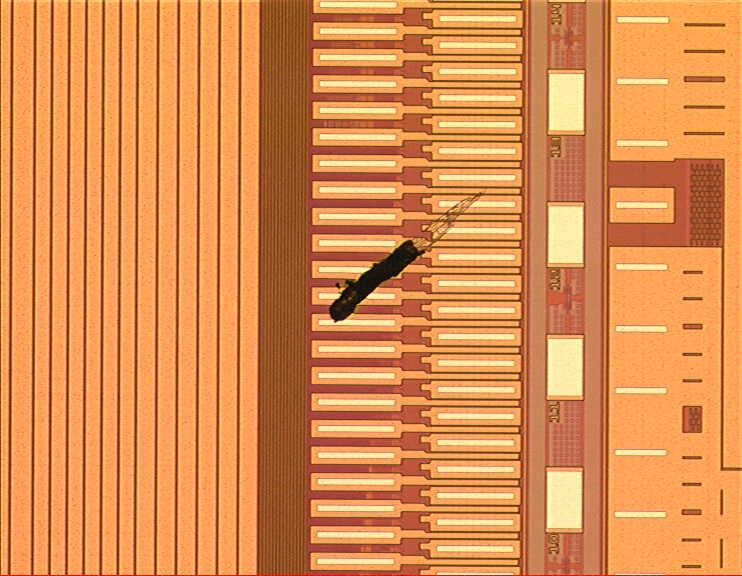SCRATCH: (325, 183, 486, 328)
